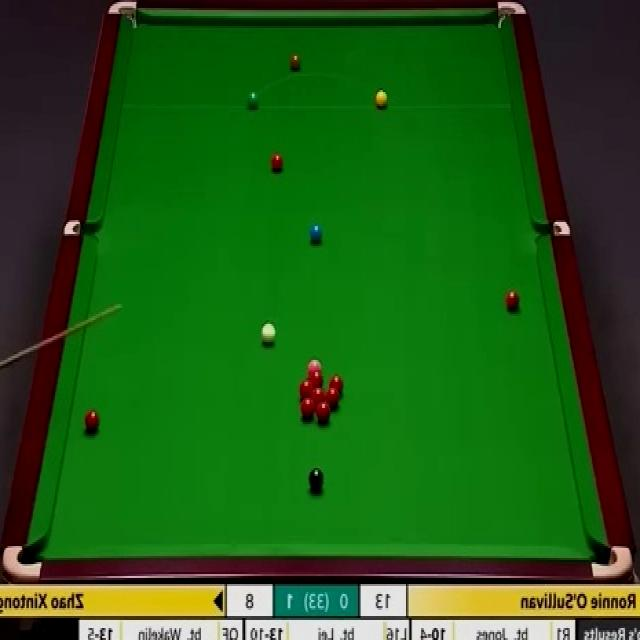black-ball: (309, 466, 325, 494)
blue-ball: (309, 222, 324, 245)
brown-ball: (288, 52, 302, 72)
green-ball: (245, 91, 261, 112)
pink-ball: (306, 358, 322, 370)
red-ball: (504, 290, 521, 316), (84, 409, 100, 435), (300, 398, 315, 422), (316, 401, 330, 423), (330, 373, 344, 394), (270, 152, 284, 172), (301, 379, 313, 401), (308, 370, 323, 387), (309, 386, 323, 401), (323, 388, 336, 402)
white-ball: (259, 322, 277, 347)
yellow-ball: (375, 90, 388, 110)
